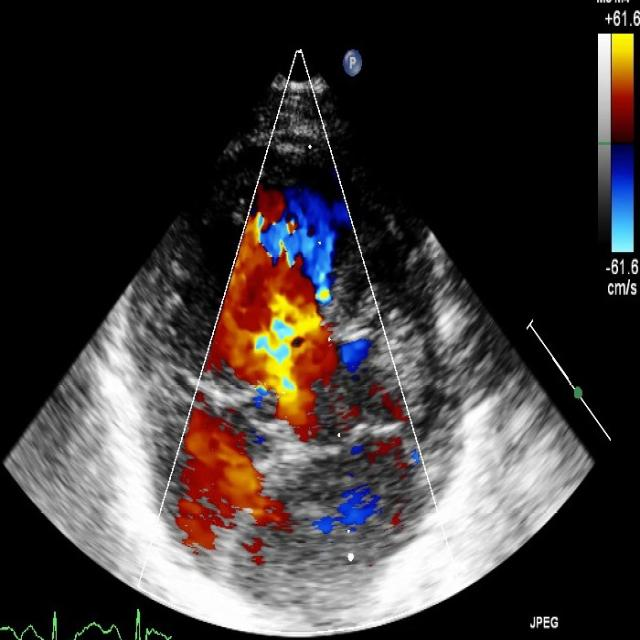VSDType2: (223, 252, 341, 420)
